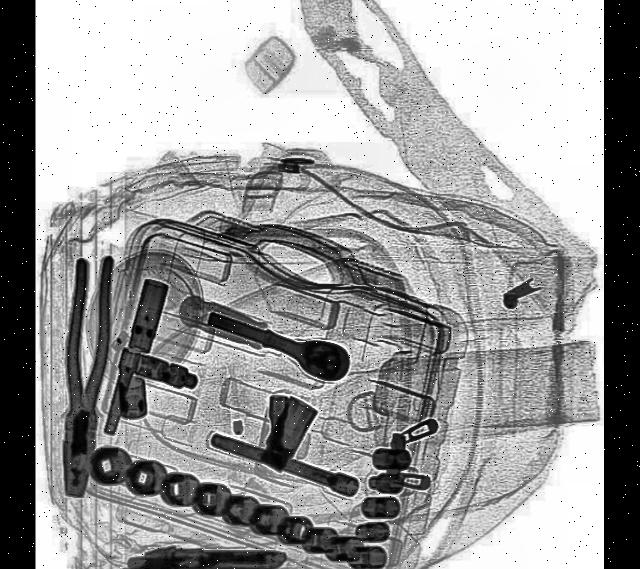Gun: (119, 541, 287, 569)
Pliers: (54, 253, 120, 500)
